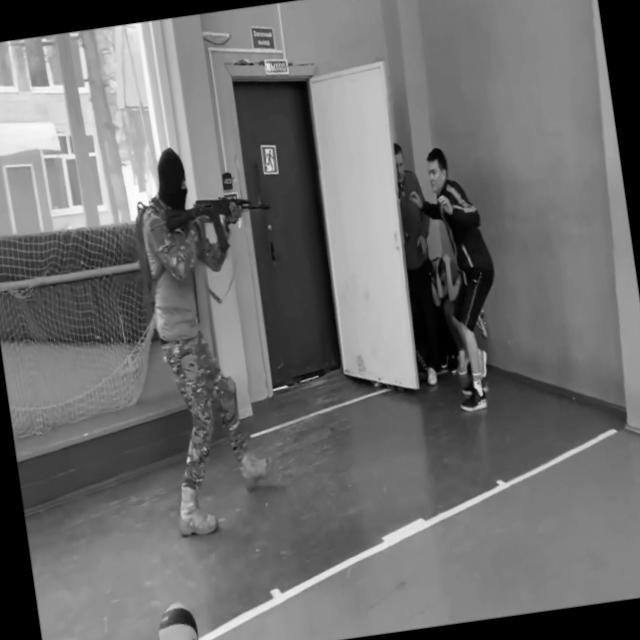gun: (162, 184, 278, 264)
person: (407, 143, 515, 418), (392, 140, 452, 382), (428, 245, 492, 382)
person with a gun: (125, 131, 318, 540)
